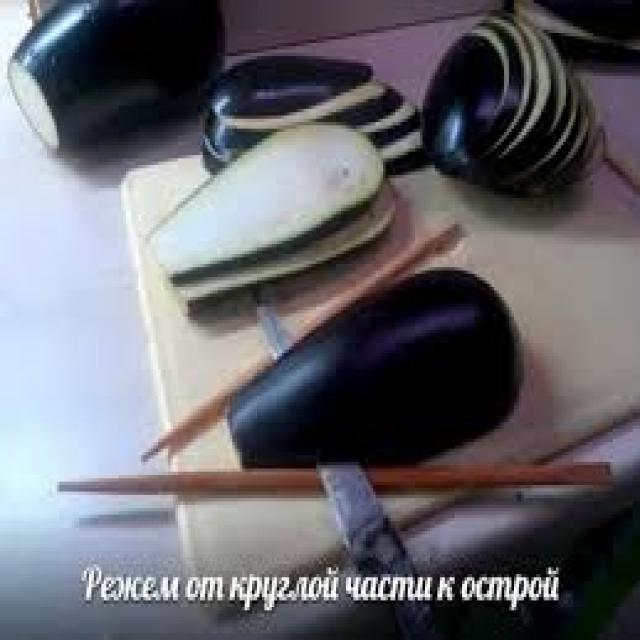eggplant: (201, 258, 565, 468), (117, 113, 417, 290), (417, 2, 640, 191), (0, 0, 215, 175), (193, 43, 460, 164)
